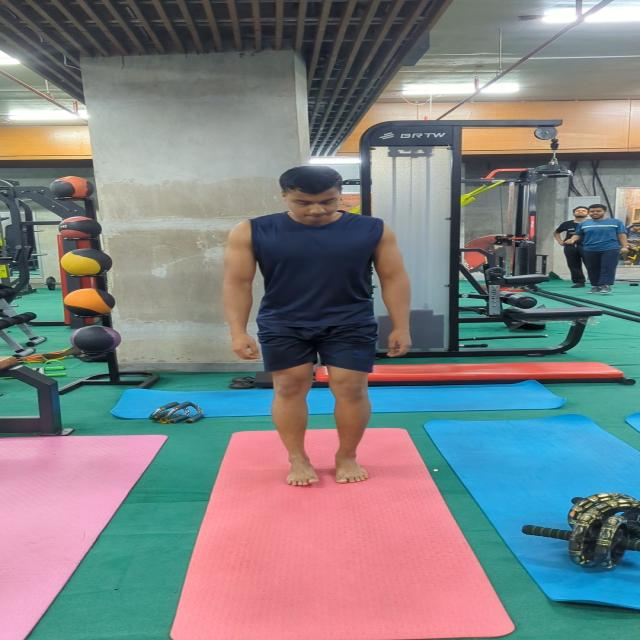Normal_Lunges: (212, 162, 416, 497)
